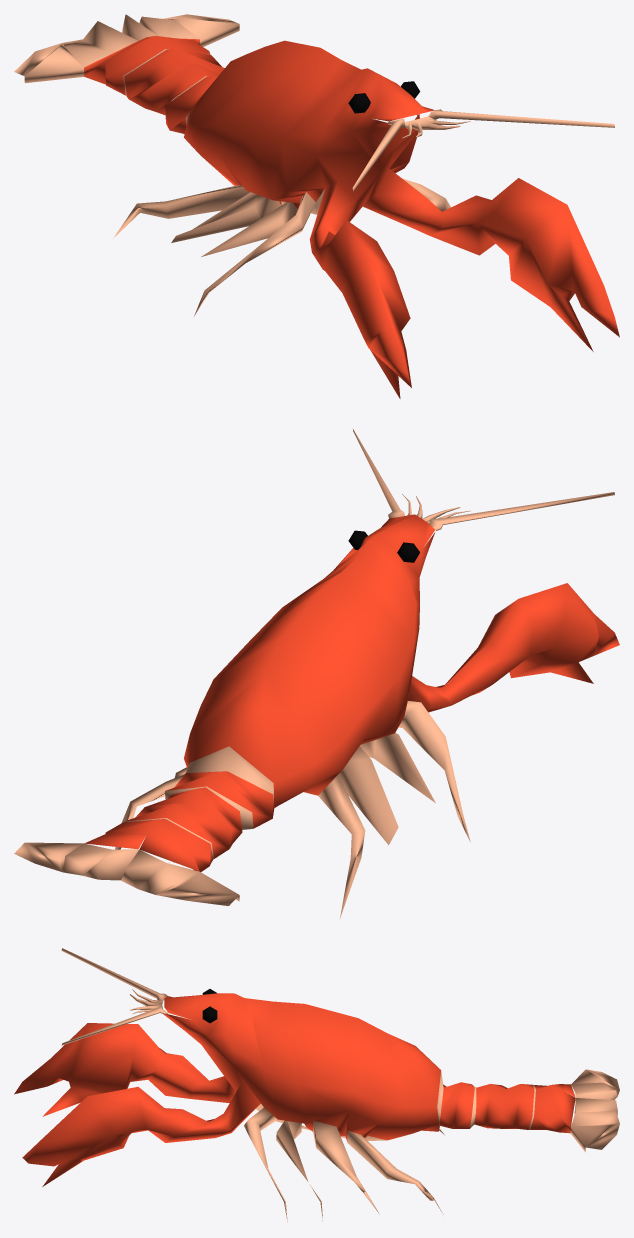
Rendered from animals-crawfish-052.glb.
The picture shows the model from 3 angles, top to bottom: view 1: azimuth 30°, elevation 25°; view 2: azimuth 150°, elevation 25°; view 3: azimuth 270°, elevation 25°; orthographic projection. The views are drawn at different scales.
Parts seen in each view (by area): view 1: CRAYFISH.1; view 2: CRAYFISH.1; view 3: CRAYFISH.1.
Part boxes in pixels (left/top/right/bottom): CRAYFISH.1: left=14, top=14, right=619, bottom=398; CRAYFISH.1: left=14, top=428, right=619, bottom=919; CRAYFISH.1: left=14, top=948, right=619, bottom=1222.
Size of the model in its own units: 275 by 235 by 699.
